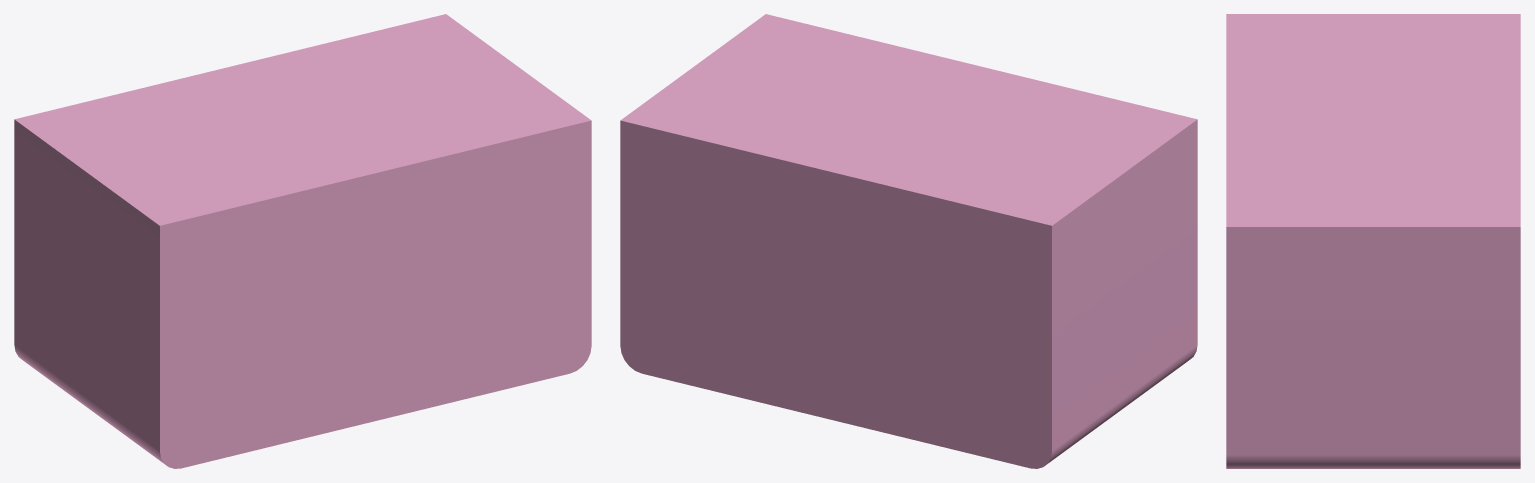
File: objyol.fbx
3 views of the same model, side by side, from view 1: azimuth 30°, elevation 25°; view 2: azimuth 150°, elevation 25°; view 3: azimuth 270°, elevation 25° (orthographic).
Parts seen in each view (by area): view 1: pCube4; view 2: pCube4; view 3: pCube4.
Part boxes in pixels (x1,y1,x2,y2): pCube4: (14, 14, 591, 468); pCube4: (620, 14, 1197, 468); pCube4: (1226, 14, 1520, 468).
Size of the model in its own units: 183 by 100 by 107.
